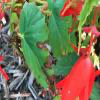Tomato leaf bacterial spot: (17, 5, 57, 95)
